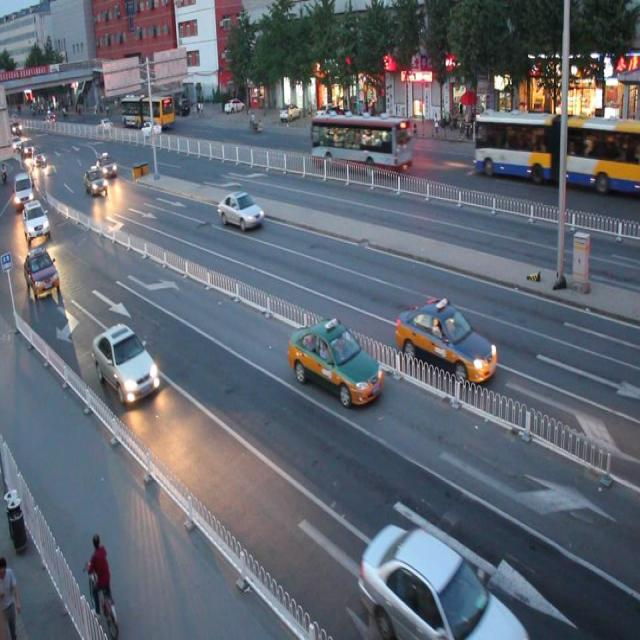car: (358, 521, 527, 640), (396, 298, 496, 382), (288, 318, 381, 405), (92, 320, 159, 404), (218, 189, 263, 232)
van: (472, 107, 640, 195), (310, 114, 412, 175)
